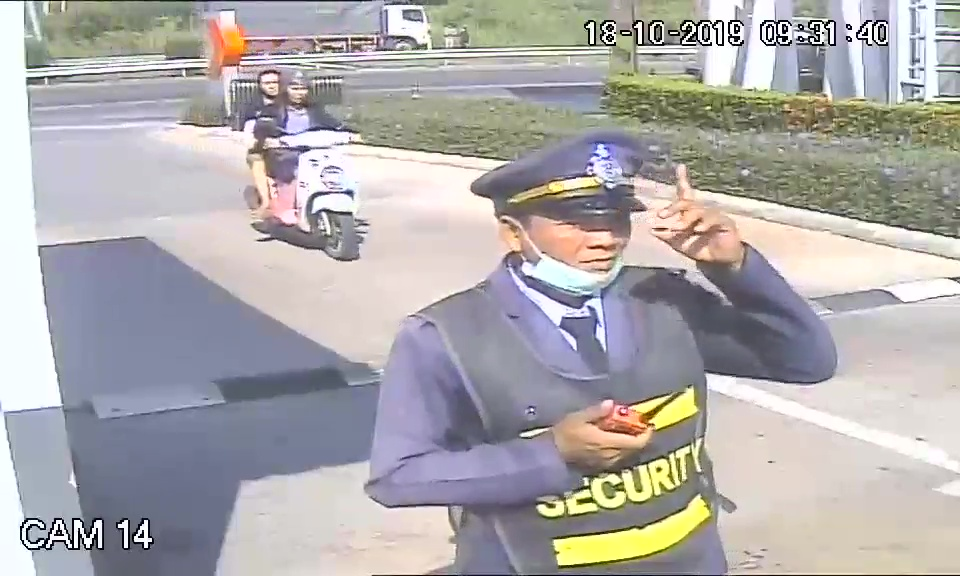motorcycle: (239, 129, 371, 261)
